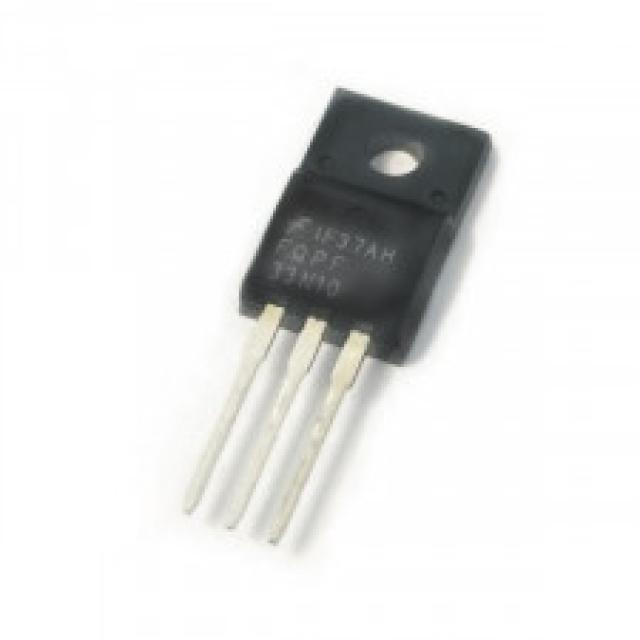Transistor: (190, 92, 496, 560)
